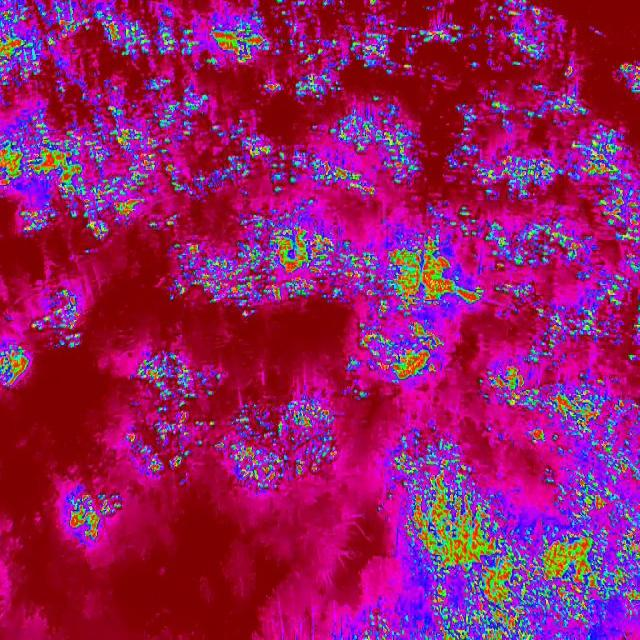fire: (387, 0, 637, 640), (172, 0, 386, 312), (0, 0, 173, 231), (120, 353, 344, 502), (0, 285, 81, 403), (344, 314, 388, 404), (70, 477, 124, 538), (337, 599, 393, 640)
